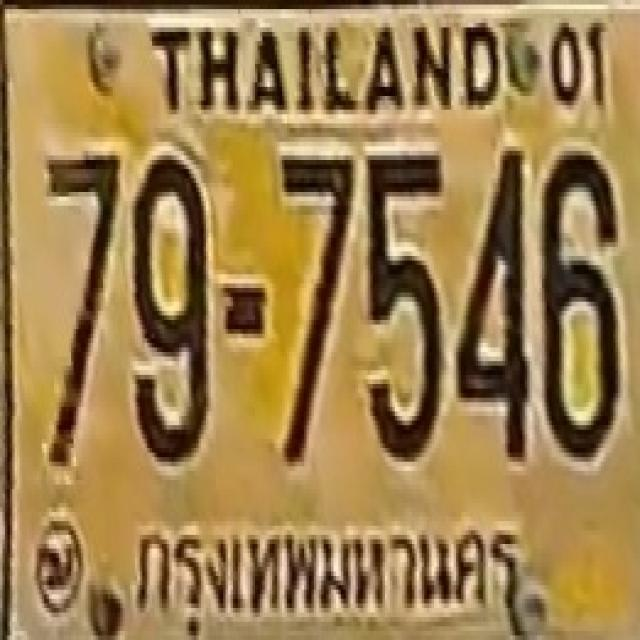4: (455, 146, 528, 457)
5: (367, 151, 442, 457)
6: (542, 146, 618, 457)
7: (47, 151, 120, 466), (280, 151, 353, 462)
9: (131, 151, 207, 462)
BKK: (131, 515, 526, 629)
